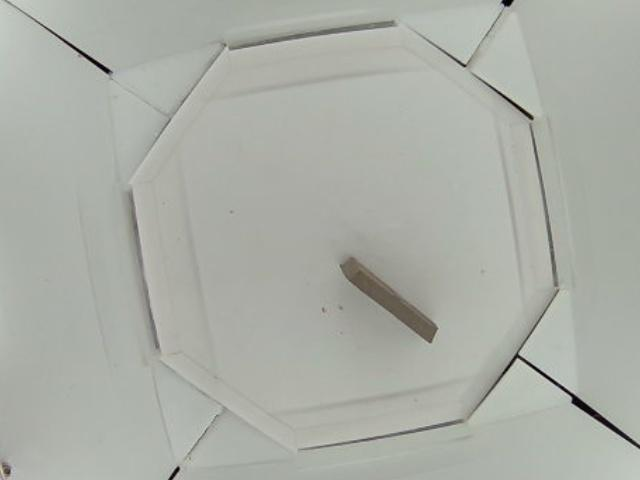China: (342, 260, 432, 341)
